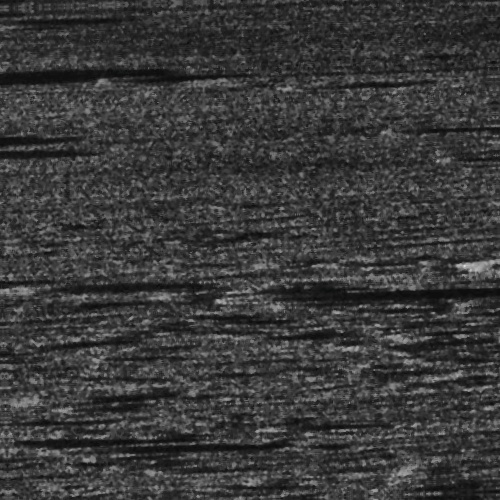object: (35, 432, 118, 457), (394, 261, 500, 278), (13, 389, 106, 394), (370, 130, 433, 135), (104, 67, 145, 74), (0, 8, 26, 19), (0, 409, 26, 416), (289, 86, 330, 89), (235, 295, 276, 298), (0, 431, 11, 436), (0, 0, 10, 5)
shadow: (77, 432, 231, 457), (0, 61, 141, 74), (0, 8, 113, 19), (125, 67, 237, 74), (0, 141, 87, 150), (0, 431, 156, 436), (256, 295, 500, 298), (5, 409, 105, 416), (27, 279, 207, 282), (402, 130, 500, 135), (60, 389, 138, 394), (310, 86, 403, 89), (0, 0, 30, 5)
